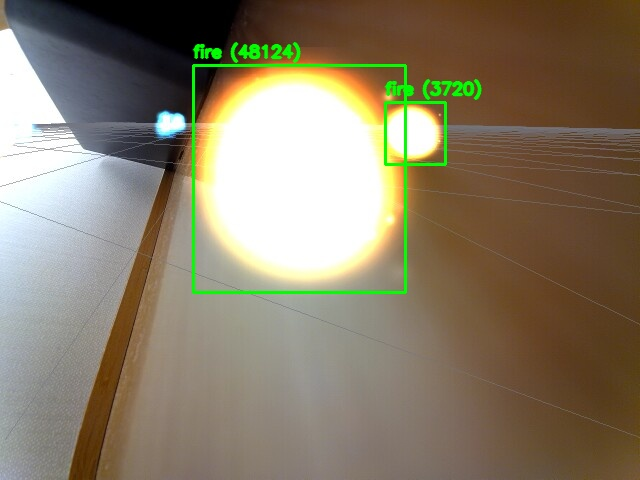fire: (193, 65, 405, 292), (385, 102, 445, 164)
